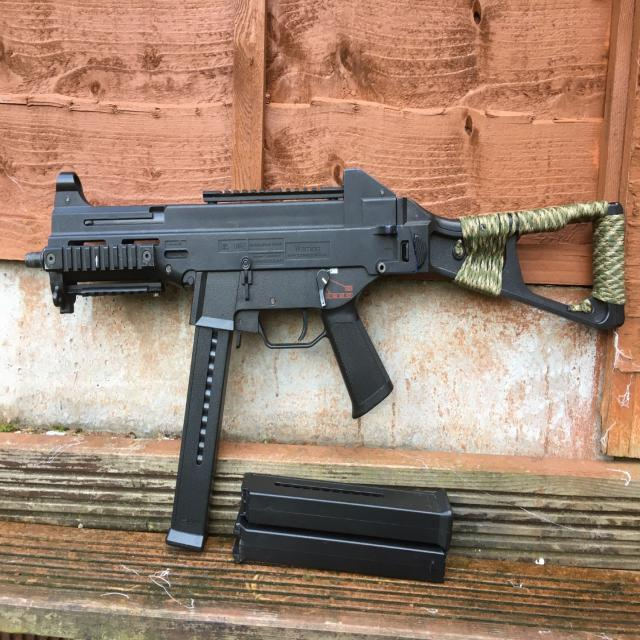SMG: (21, 169, 627, 554)
